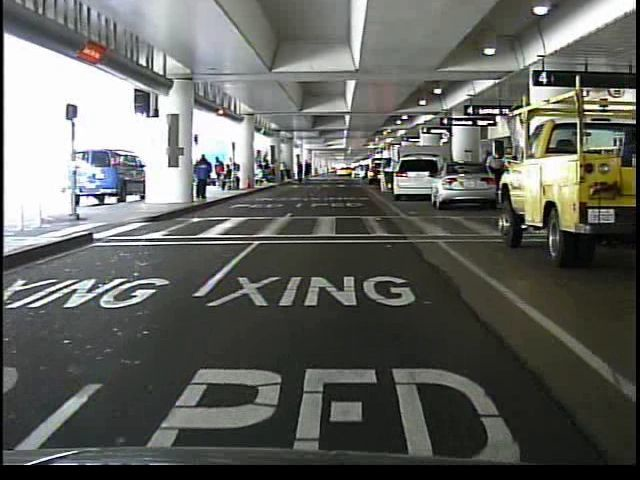person: (191, 152, 214, 204)
